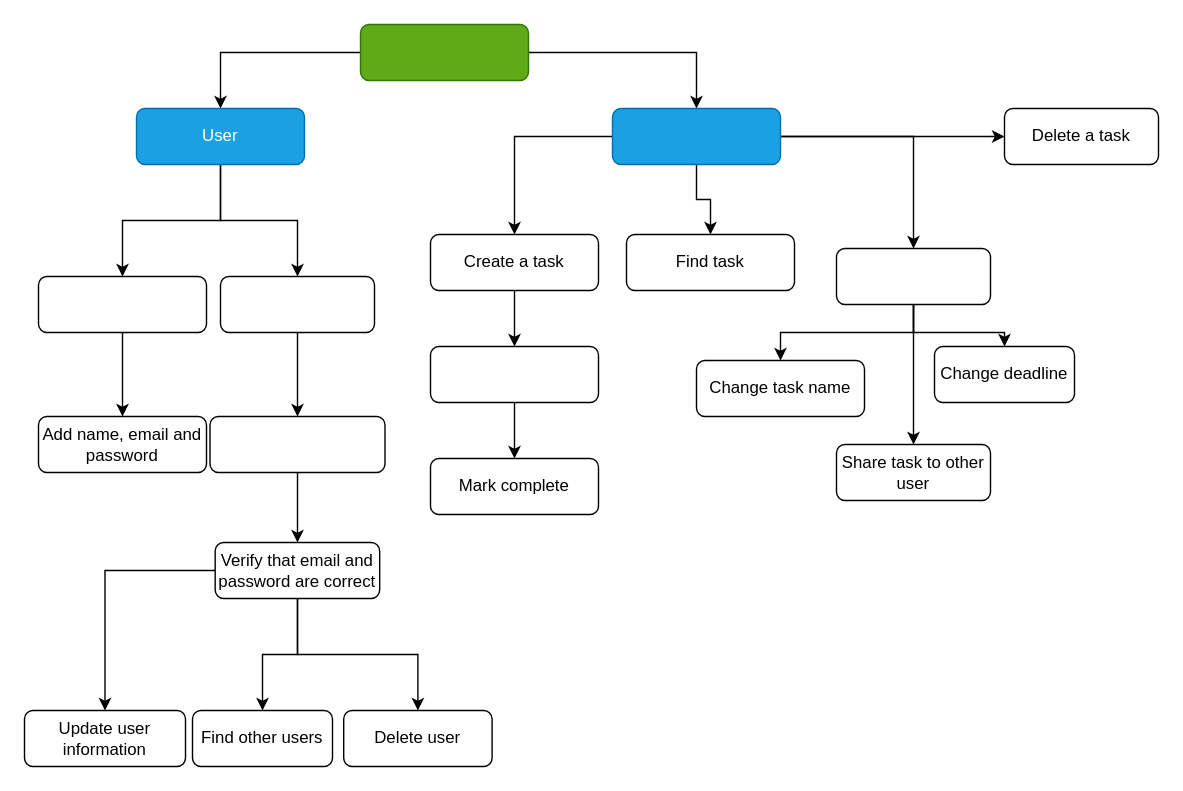
Image size: 1183x791. Some labels were removed from this diagram. Here are the shapes that lost their labels. From the top down, the box of each, then its label:
(359, 23, 528, 80): Task Management
(611, 107, 780, 164): Tasks todo
(835, 247, 990, 304): Update task
(37, 275, 206, 332): Register
(219, 275, 374, 332): Login
(429, 345, 598, 402): Add deadline
(209, 415, 385, 472): enter email and password
